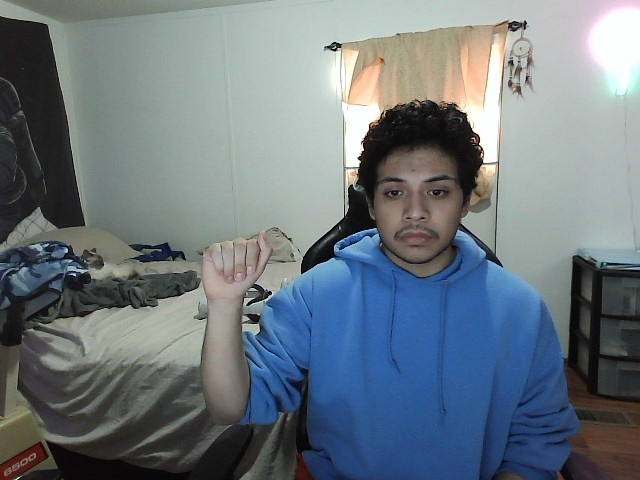A: (194, 229, 275, 301)
